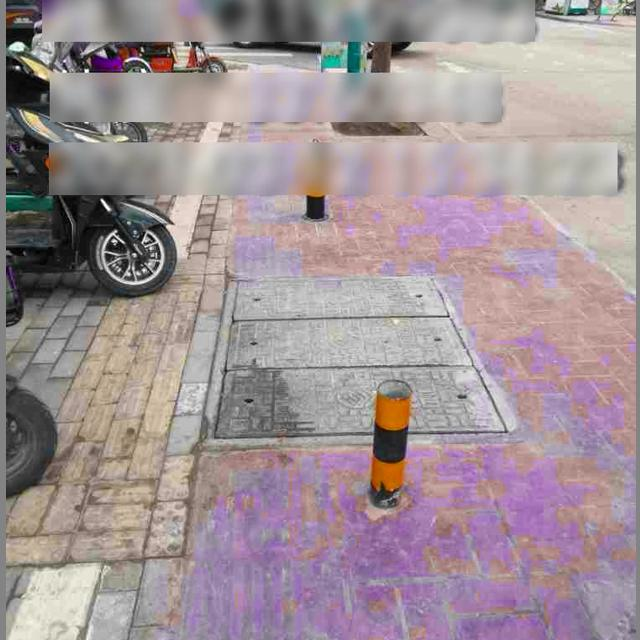good: (205, 264, 504, 434)
